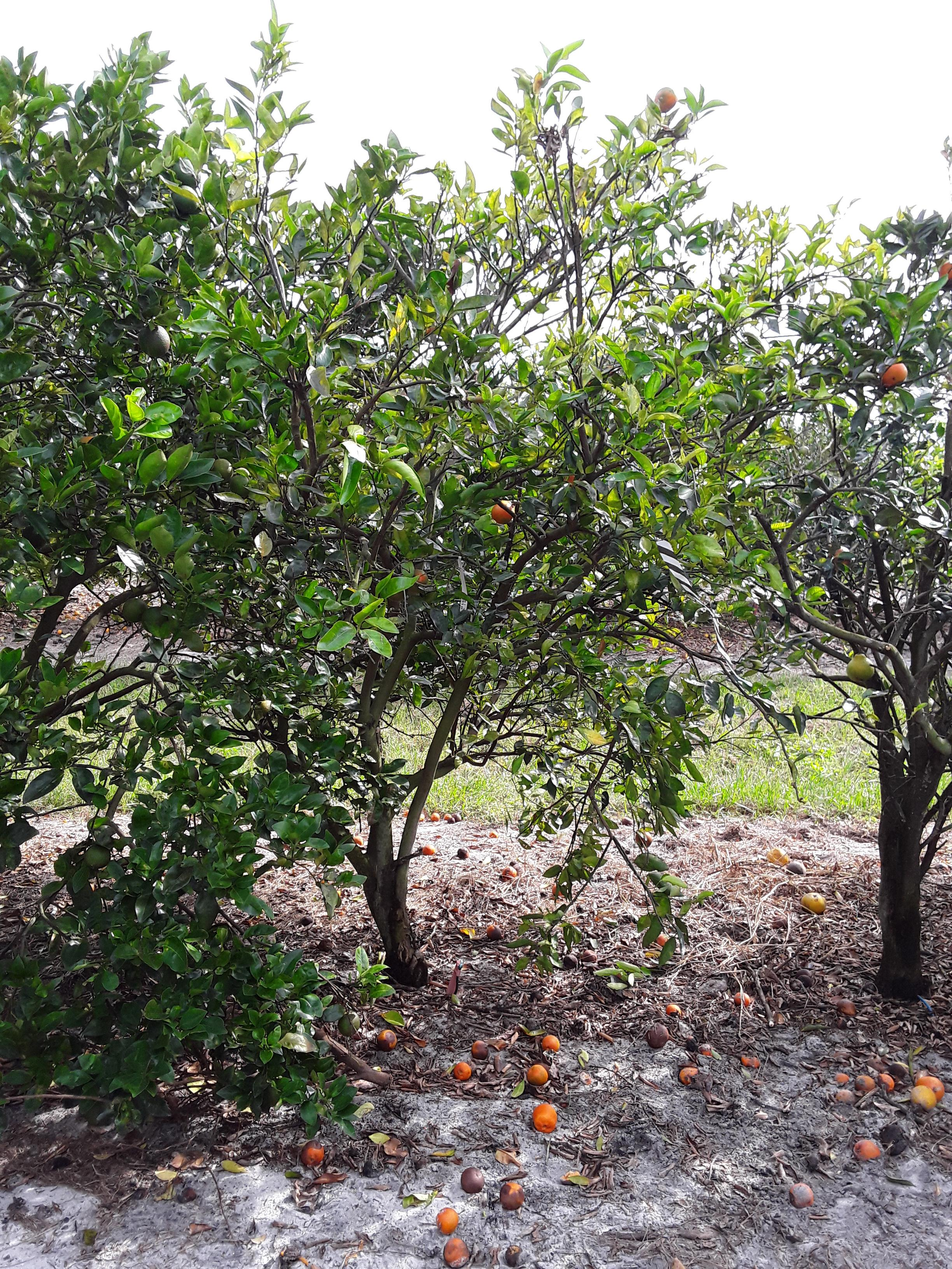fruit_on_ground: (838, 643, 879, 686), (877, 351, 912, 393), (135, 320, 173, 358), (168, 182, 205, 215), (71, 376, 107, 406), (172, 157, 204, 189), (652, 84, 682, 115), (490, 495, 517, 528), (140, 605, 168, 631), (120, 596, 149, 621), (337, 1009, 362, 1036), (84, 843, 112, 867), (210, 456, 233, 483), (935, 256, 952, 291), (229, 474, 252, 499), (408, 566, 430, 587), (563, 472, 579, 489)
fruit_on_tree: (441, 1232, 473, 1269), (880, 1123, 911, 1159), (497, 1176, 527, 1212), (528, 1101, 559, 1135), (915, 1067, 945, 1102), (458, 1164, 488, 1195), (909, 1085, 939, 1115), (299, 1138, 329, 1167), (787, 1182, 816, 1211), (434, 1206, 462, 1236), (645, 1021, 671, 1050), (854, 1138, 885, 1162), (502, 1240, 528, 1267), (678, 1064, 702, 1091), (527, 1060, 551, 1085), (800, 891, 828, 912), (579, 948, 608, 968), (375, 1027, 399, 1051), (471, 1036, 492, 1063), (539, 1030, 563, 1053), (874, 1071, 898, 1094), (450, 1061, 475, 1082), (786, 858, 810, 879), (853, 1071, 877, 1092), (835, 1084, 856, 1107), (732, 990, 756, 1009), (766, 846, 789, 865), (836, 998, 857, 1017), (525, 986, 548, 1003), (740, 1054, 764, 1070), (683, 1032, 699, 1054), (666, 1002, 685, 1020), (346, 830, 364, 848), (500, 865, 518, 881), (486, 925, 504, 941), (562, 954, 584, 967), (698, 1041, 716, 1056), (833, 1071, 853, 1084), (653, 933, 670, 946), (552, 884, 567, 898), (421, 843, 436, 856), (442, 808, 452, 827), (456, 847, 471, 859), (427, 811, 441, 823), (488, 831, 501, 841), (64, 610, 74, 621), (56, 628, 64, 637), (73, 608, 81, 616)
